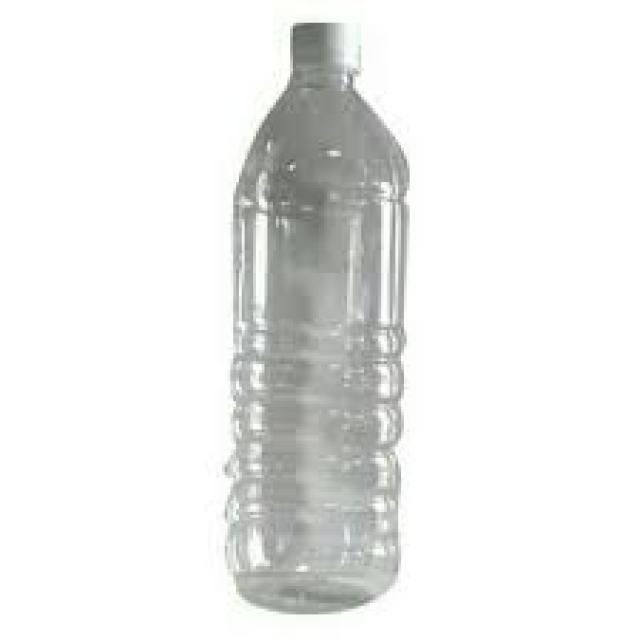plastic cup: (228, 24, 409, 612)
